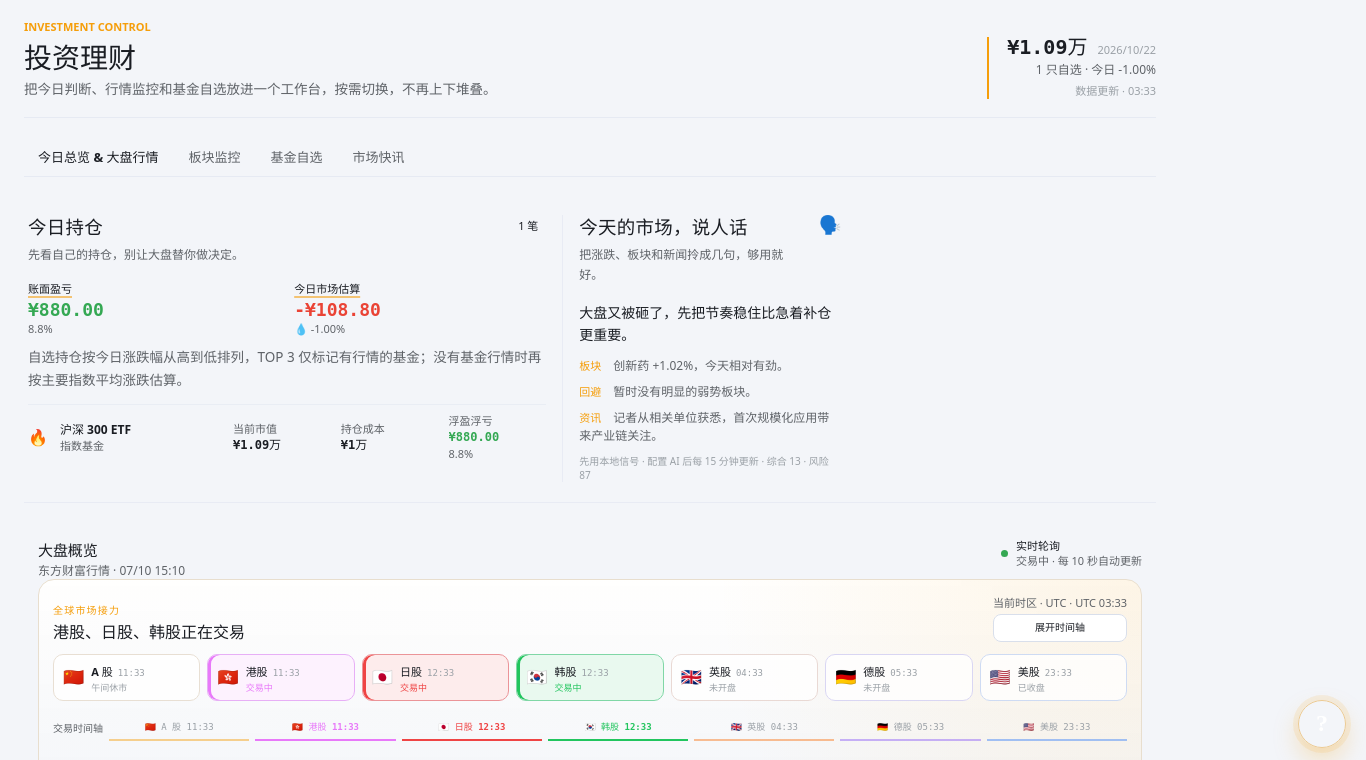
Test: InvestmentsPage › 可以在自选基金卡片内录入持有份额并持久化
The width and height of the screenshot is (1366, 760).
Step 1. Click the button "基金自选" → point(296, 158), box left=256, top=138, right=336, bottom=176
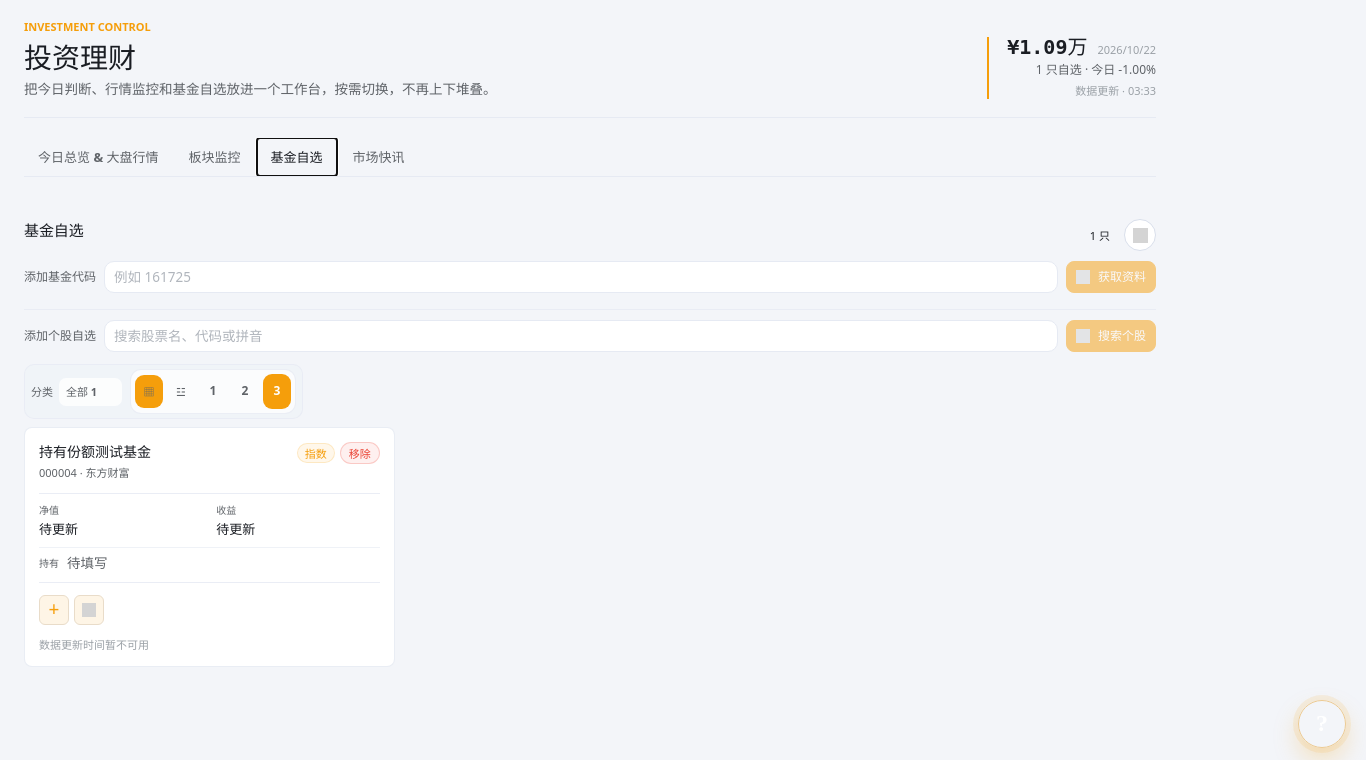
Step 2. Click the button "待填写" → point(87, 564), box left=67, top=555, right=108, bottom=572
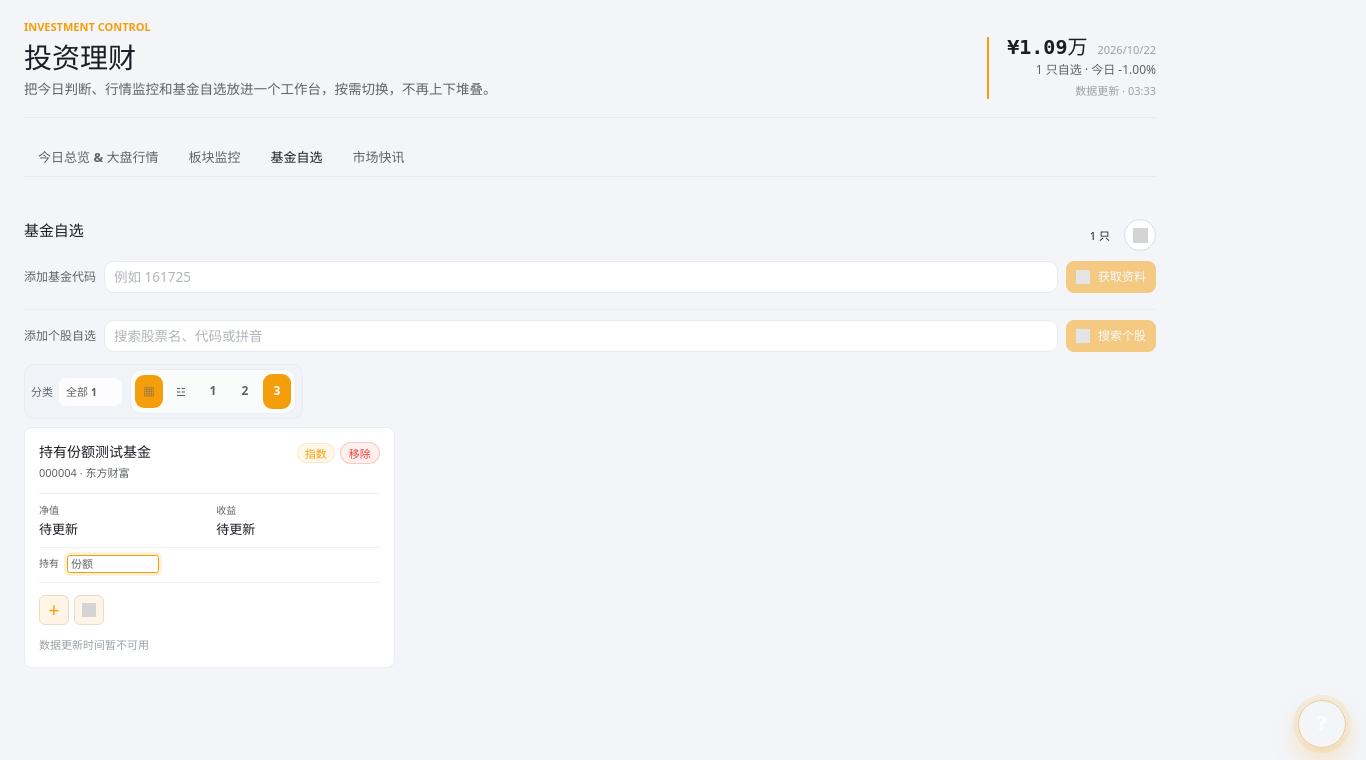
Step 3. Type "1234.56" into the field named "持有份额测试基金持有份额" → point(113, 564), box left=67, top=555, right=159, bottom=573
Then press Enter
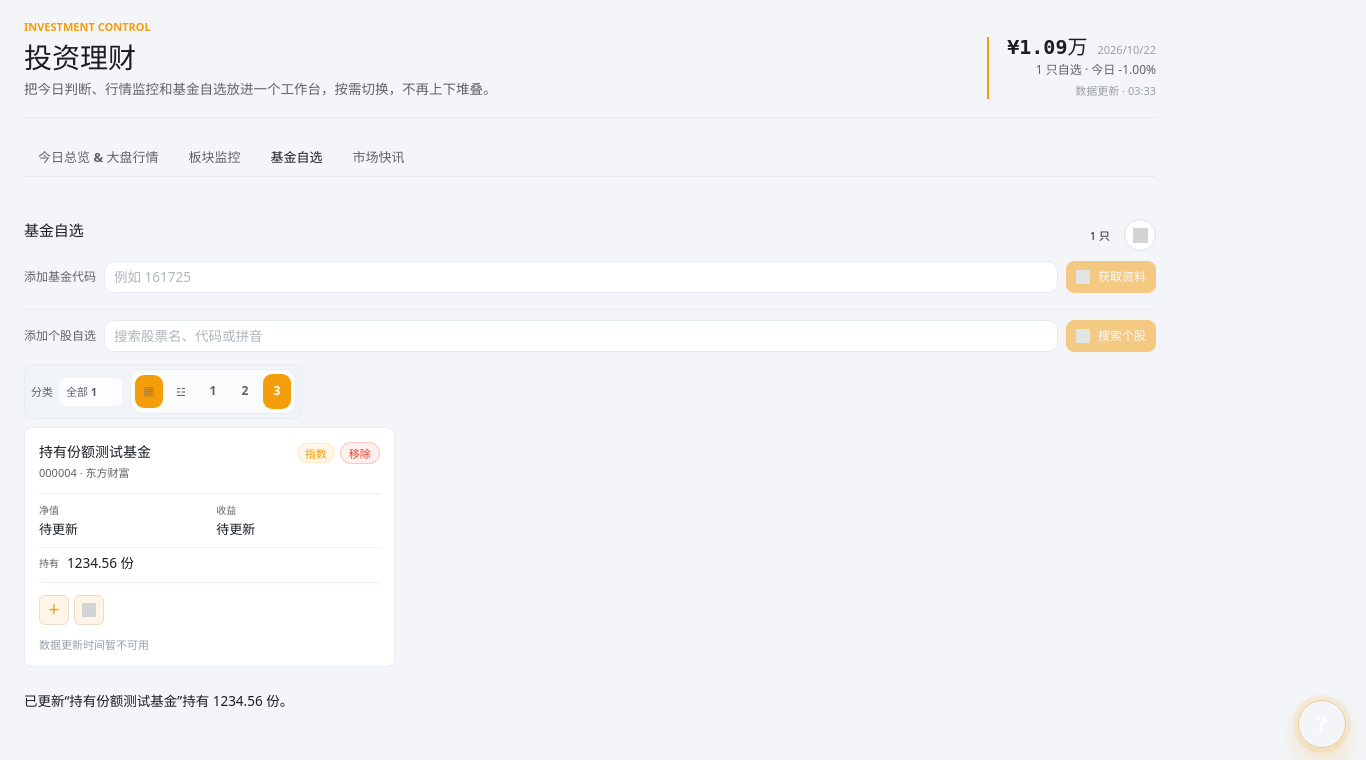
Expected: the button "1234.56 份" is shown, left=67, top=555, right=134, bottom=572
